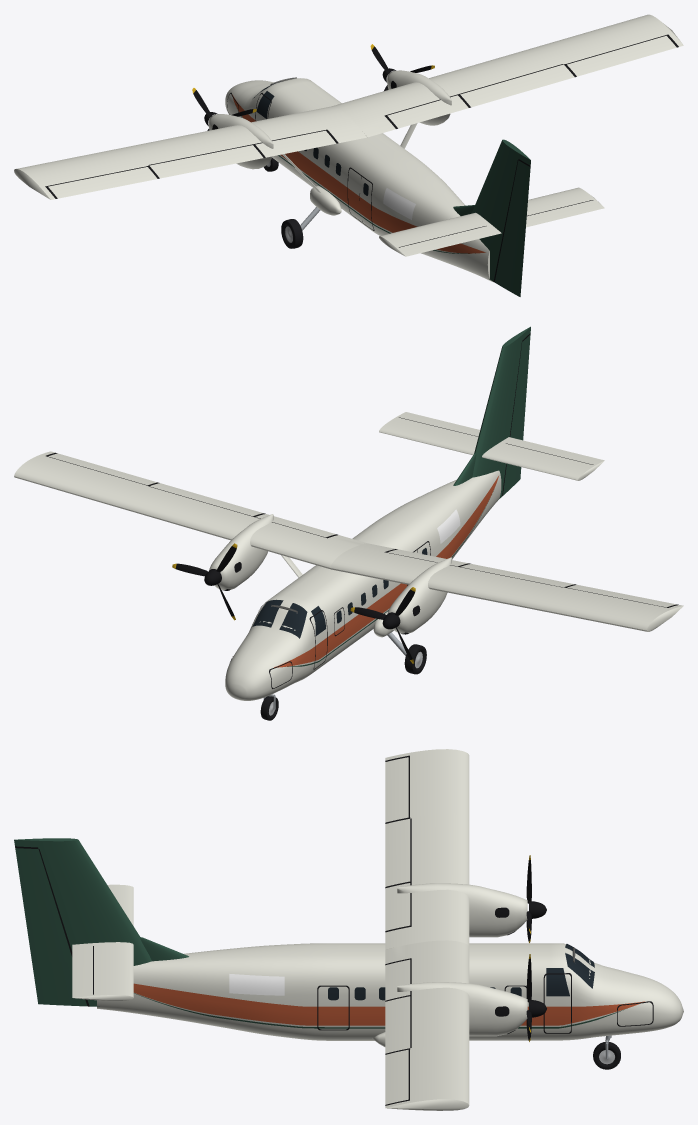
The model's file is jaz-50.glb.
3 views of the same model, one above another, from view 1: azimuth 30°, elevation 25°; view 2: azimuth 150°, elevation 25°; view 3: azimuth 270°, elevation 25° (orthographic). The views are drawn at different scales.
Visible parts, largest first — view 1: ala, fuselaje, estabilizador, timon-de-direccion-piel, deriva, cintura, gondola, flap-fuera-derecha-piel, flap-fuera-izquierda-piel, aleron-derecha-piel, aleron-izquierda-piel, profundidad-izquierda-piel (+7 smaller); view 2: ala, fuselaje, estabilizador, gondola, deriva, cintura, timon-de-direccion-piel, parabrisas, flap-fuera-derecha-piel, profundidad-izquierda-piel, aleron-derecha-piel, flap-fuera-izquierda-piel (+1 smaller); view 3: fuselaje, ala, deriva, cintura, gondola, timon-de-direccion-piel, estabilizador, flap-fuera-izquierda-piel, aleron-izquierda-piel, flap-fuera-derecha-piel, aleron-derecha-piel, marca (+7 smaller).
Boxes of the visible parts, box(x1,y1,x2,y2) form: ala: box(14, 14, 683, 199); fuselaje: box(225, 78, 493, 282); estabilizador: box(379, 187, 604, 256); timon-de-direccion-piel: box(494, 160, 530, 296); deriva: box(471, 139, 530, 247); cintura: box(232, 94, 485, 253); gondola: box(208, 70, 451, 169); flap-fuera-derecha-piel: box(460, 64, 574, 107); flap-fuera-izquierda-piel: box(149, 145, 263, 178); aleron-derecha-piel: box(567, 35, 676, 76); aleron-izquierda-piel: box(48, 167, 157, 198); profundidad-izquierda-piel: box(399, 226, 495, 256); ala: box(14, 451, 683, 631); fuselaje: box(225, 470, 501, 700); estabilizador: box(379, 412, 604, 480); gondola: box(209, 514, 451, 633); deriva: box(472, 326, 530, 477); cintura: box(274, 476, 498, 667); timon-de-direccion-piel: box(503, 334, 530, 495); parabrisas: box(252, 599, 307, 638); flap-fuera-derecha-piel: box(149, 483, 263, 516); profundidad-izquierda-piel: box(506, 438, 602, 464); aleron-derecha-piel: box(48, 453, 156, 485); flap-fuera-izquierda-piel: box(460, 564, 573, 587); fuselaje: box(97, 943, 683, 1040); ala: box(385, 749, 469, 1110); deriva: box(14, 838, 151, 963); cintura: box(133, 983, 644, 1025); gondola: box(397, 883, 527, 1036); timon-de-direccion-piel: box(15, 848, 87, 1006); estabilizador: box(72, 884, 133, 1000); flap-fuera-izquierda-piel: box(385, 819, 410, 886); aleron-izquierda-piel: box(385, 757, 408, 822); flap-fuera-derecha-piel: box(385, 996, 410, 1053); aleron-derecha-piel: box(385, 1049, 408, 1104); marca: box(229, 974, 284, 995).
Size of the model in its own units: 19.81 by 5.94 by 15.77.
